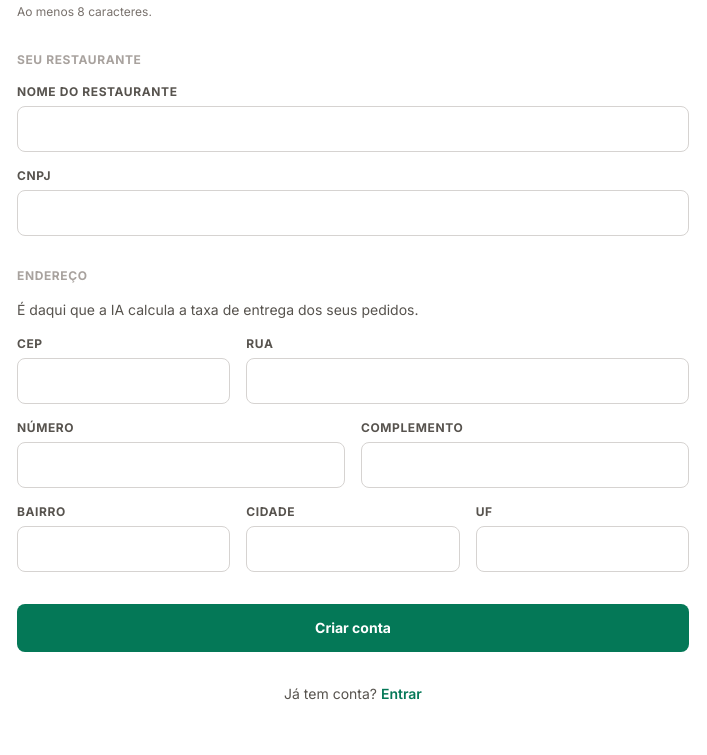
Scenario: Cadastro › não sobrescreve um campo já preenchido pelo lojista, mas completa os campos vazios
(page scrolled)
In the field labelled "Cidade": (353, 549) left=246, top=526, right=460, bottom=572, type "Rio de Janeiro"
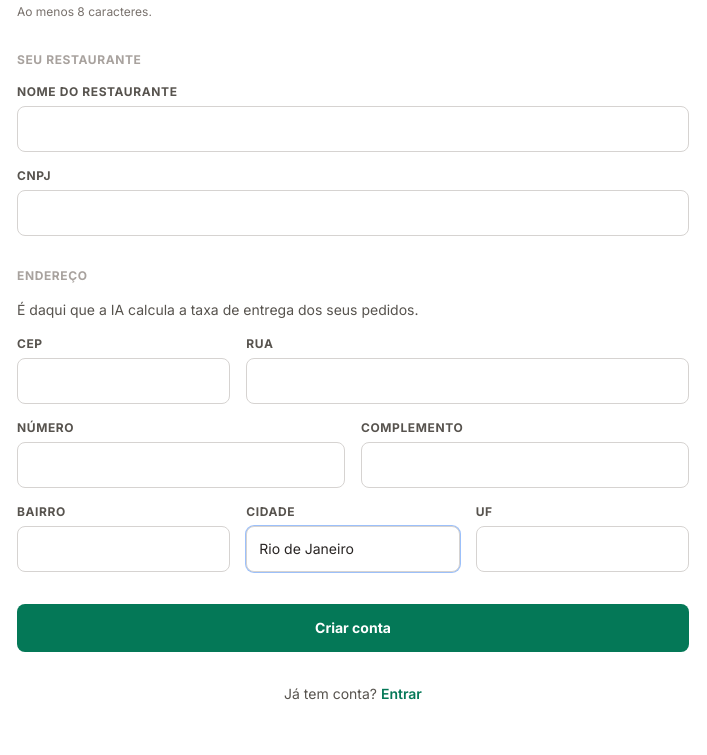
In the field labelled "CEP": (124, 381) left=17, top=358, right=230, bottom=404, type "01310100"
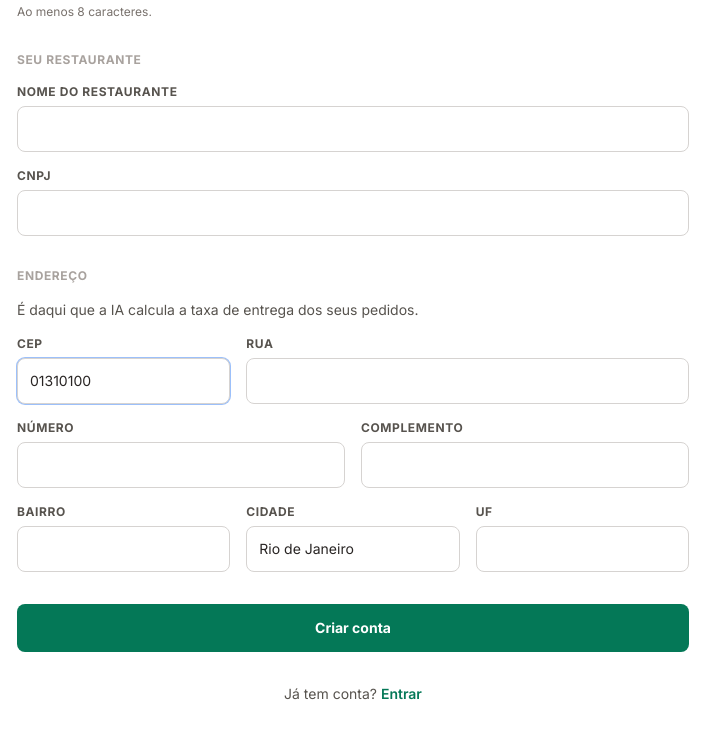
Press Tab
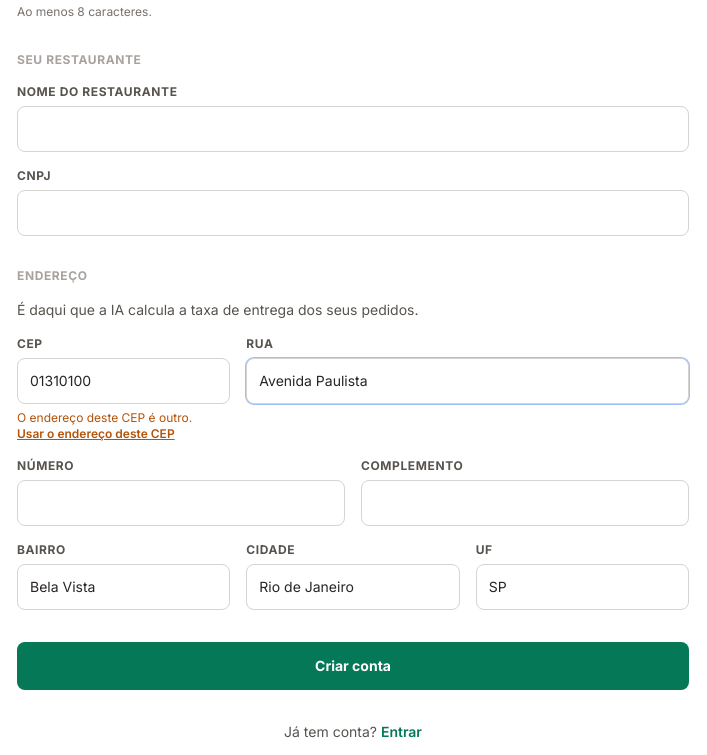
Expected: the field labelled "Rua" holds "Avenida Paulista", left=246, top=358, right=689, bottom=404
